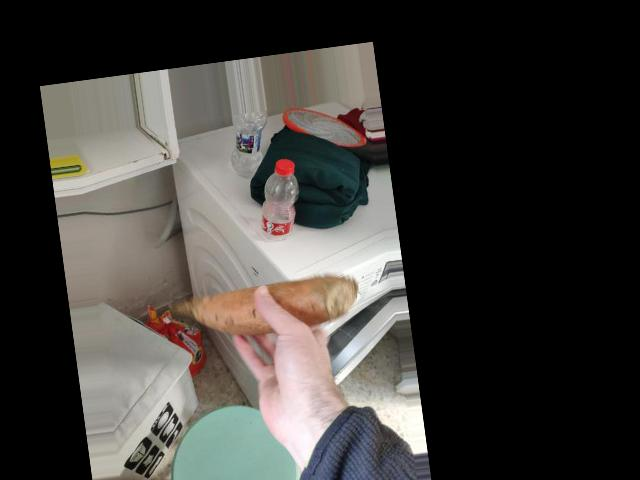sweet_potato: (182, 274, 344, 342)
